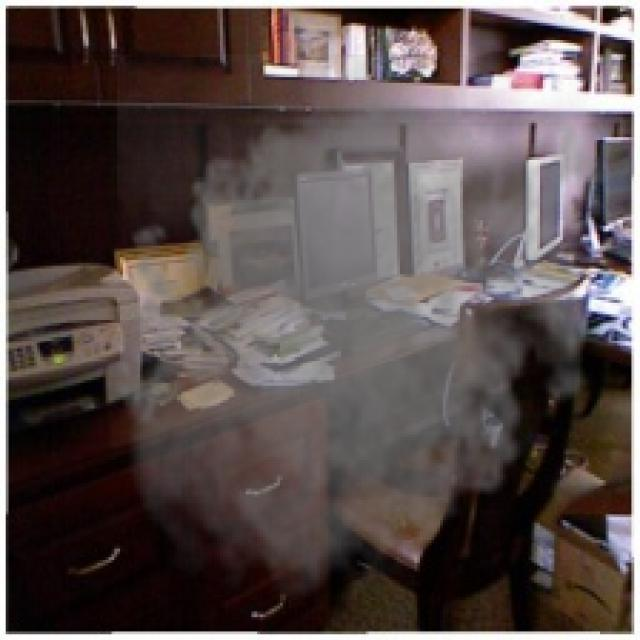Smoke: (105, 54, 620, 620)
